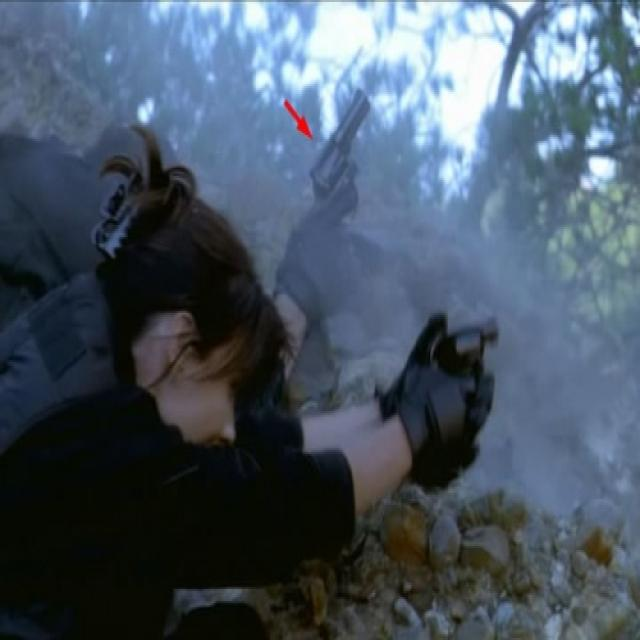weapons: (416, 278, 512, 415), (310, 86, 381, 237)
